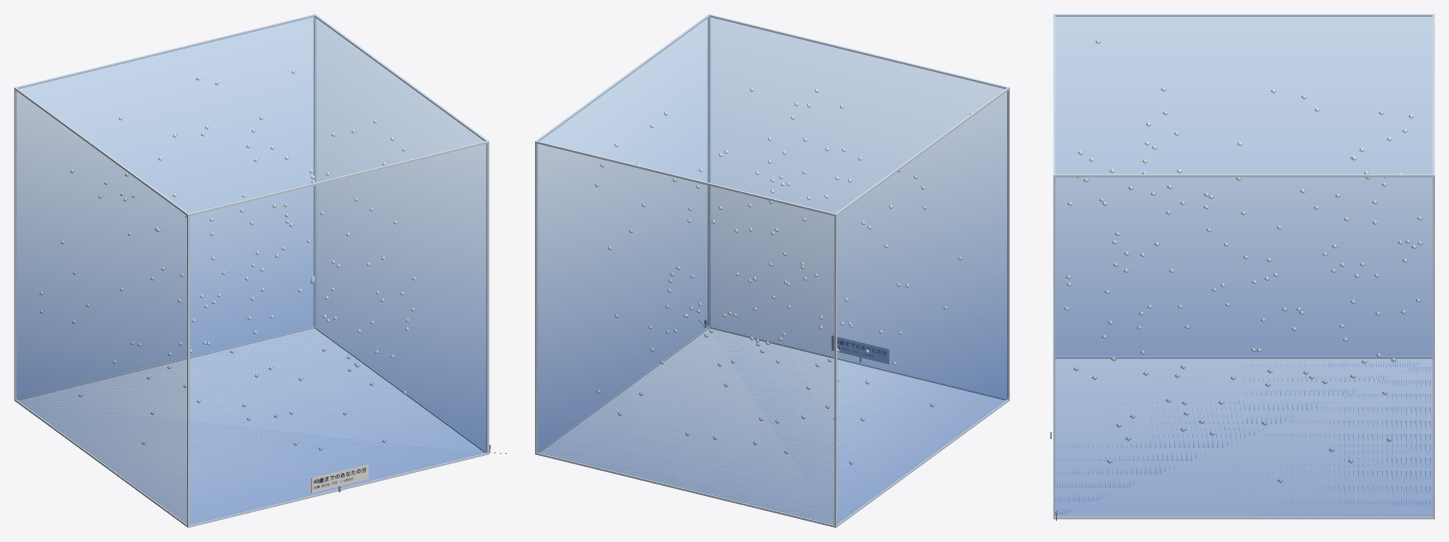
The model's file is cube_life_49.glb.
The picture shows the model from 3 angles, left to right: view 1: azimuth 30°, elevation 25°; view 2: azimuth 150°, elevation 25°; view 3: azimuth 270°, elevation 25°; orthographic projection. The views are drawn at different scales.
Visible parts, largest first — view 1: co2, edge, dots, label; view 2: co2, edge, dots, label; view 3: co2, edge, dots.
Part boxes in pixels (x1,y1,x2,y2): co2: (16, 15, 486, 524); edge: (14, 14, 489, 527); dots: (39, 70, 416, 450); label: (310, 464, 368, 492); co2: (537, 15, 1007, 524); edge: (535, 14, 1009, 527); dots: (595, 87, 971, 464); label: (832, 335, 888, 363); co2: (1055, 15, 1432, 516); edge: (1053, 14, 1434, 519); dots: (1064, 39, 1422, 482).
Bounding box in the file's own units: 65.82 × 62.07 × 64.92.
Materials: 8 (3 with a texture image).
